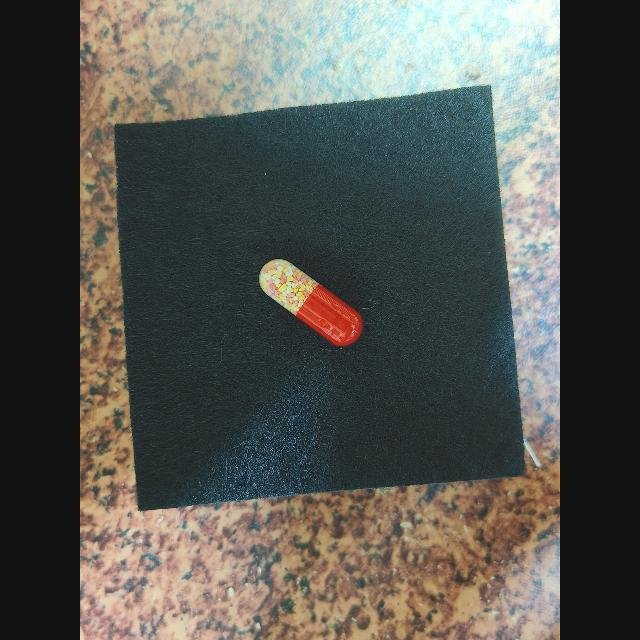Intact Capsule: (259, 259, 363, 347)
